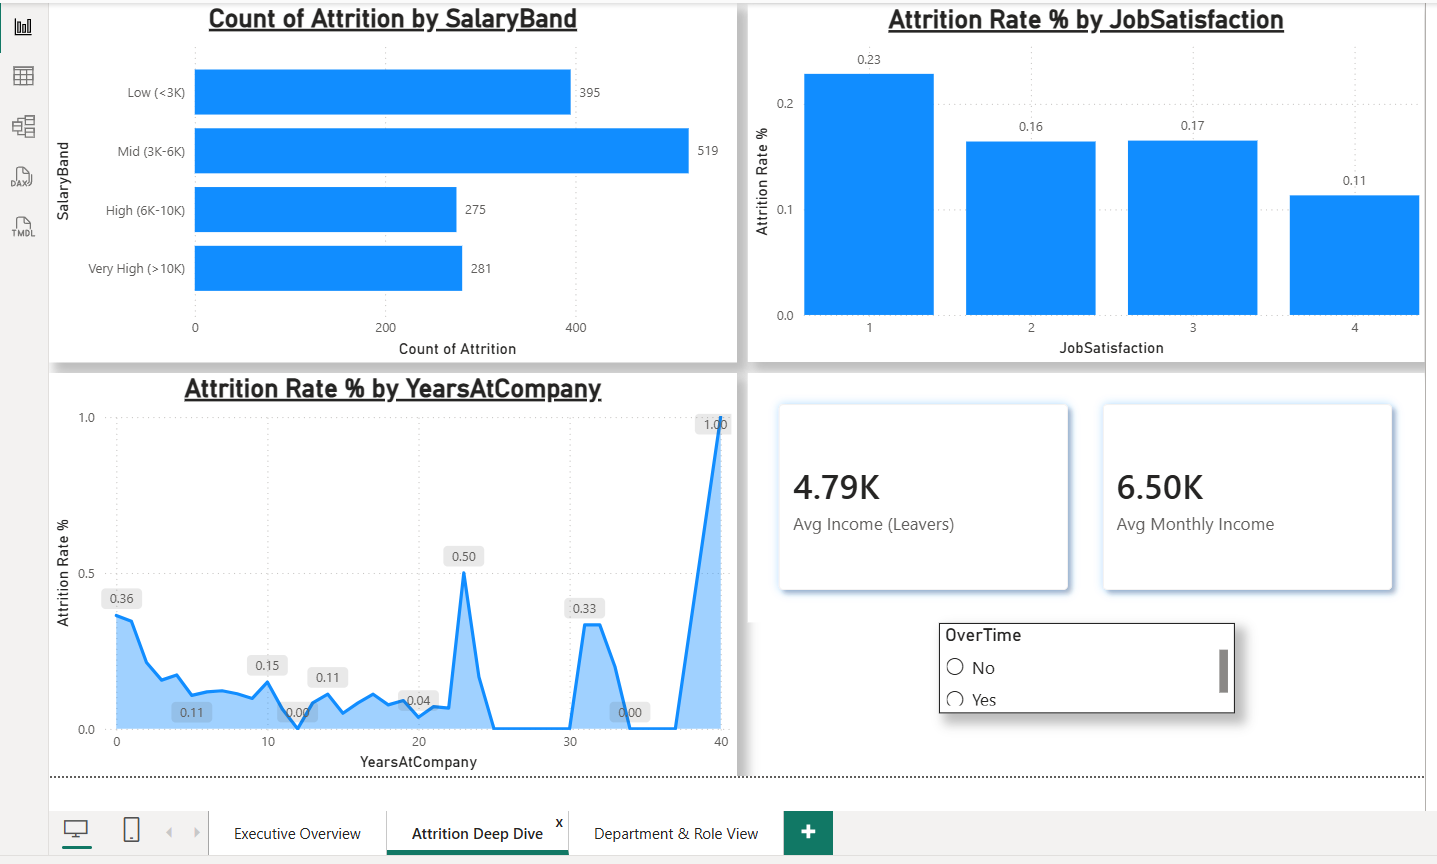

The page's visual inventory and layout, read from the dashboard file:
{"tool":"powerbi","page":{"name":"Attrition Deep Dive","canvas":[1280,720],"ordinal":1},"visuals":[{"type":"barChart","fields":{"Category":["HR Data.SalaryBand"],"Y":["CountNonNull(HR Data.Attrition)"]},"box":[0,0,640,334.5],"z":0},{"type":"clusteredColumnChart","title":"Attrition Rate % by JobSatisfaction","fields":{"Category":["HR Data.JobSatisfaction"],"Y":["_Measures.Attrition Rate %"]},"box":[650.1,1.4,629.9,333],"z":1000},{"type":"lineChart","fields":{"Category":["HR Data.YearsAtCompany"],"Y":["_Measures.Attrition Rate %"]},"box":[0,344.6,640,375],"z":2000},{"type":"cardVisual","fields":{"Data":["_Measures.Avg Income (Leavers)","_Measures.Avg Monthly Income"]},"box":[650.1,344.6,629.9,231.7],"z":3000},{"type":"listSlicer","fields":{"Values":["HR Data.OverTime"]},"box":[828.2,576.3,275.1,84],"z":4000}]}

Visuals, with their boxes on the page's 1280x720 design canvas (x1, y1, x2, y2). These are canvas units, not pixel positions in the 1437x864 screenshot, which may show the page scaled, cropped or inside an application window:
barChart - HR Data.SalaryBand x CountNonNull(HR Data.Attrition): x1=0 y1=0 x2=640 y2=334
"Attrition Rate % by JobSatisfaction" clusteredColumnChart: x1=650 y1=1 x2=1280 y2=334
lineChart - HR Data.YearsAtCompany x _Measures.Attrition Rate %: x1=0 y1=345 x2=640 y2=720
cardVisual - _Measures.Avg Income (Leavers) x _Measures.Avg Monthly Income: x1=650 y1=345 x2=1280 y2=576
listSlicer - HR Data.OverTime: x1=828 y1=576 x2=1103 y2=660
